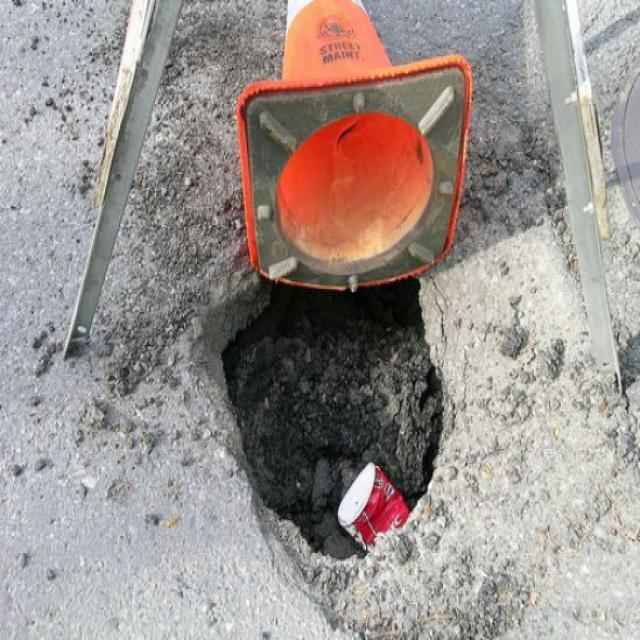pothole: (207, 272, 449, 561)
